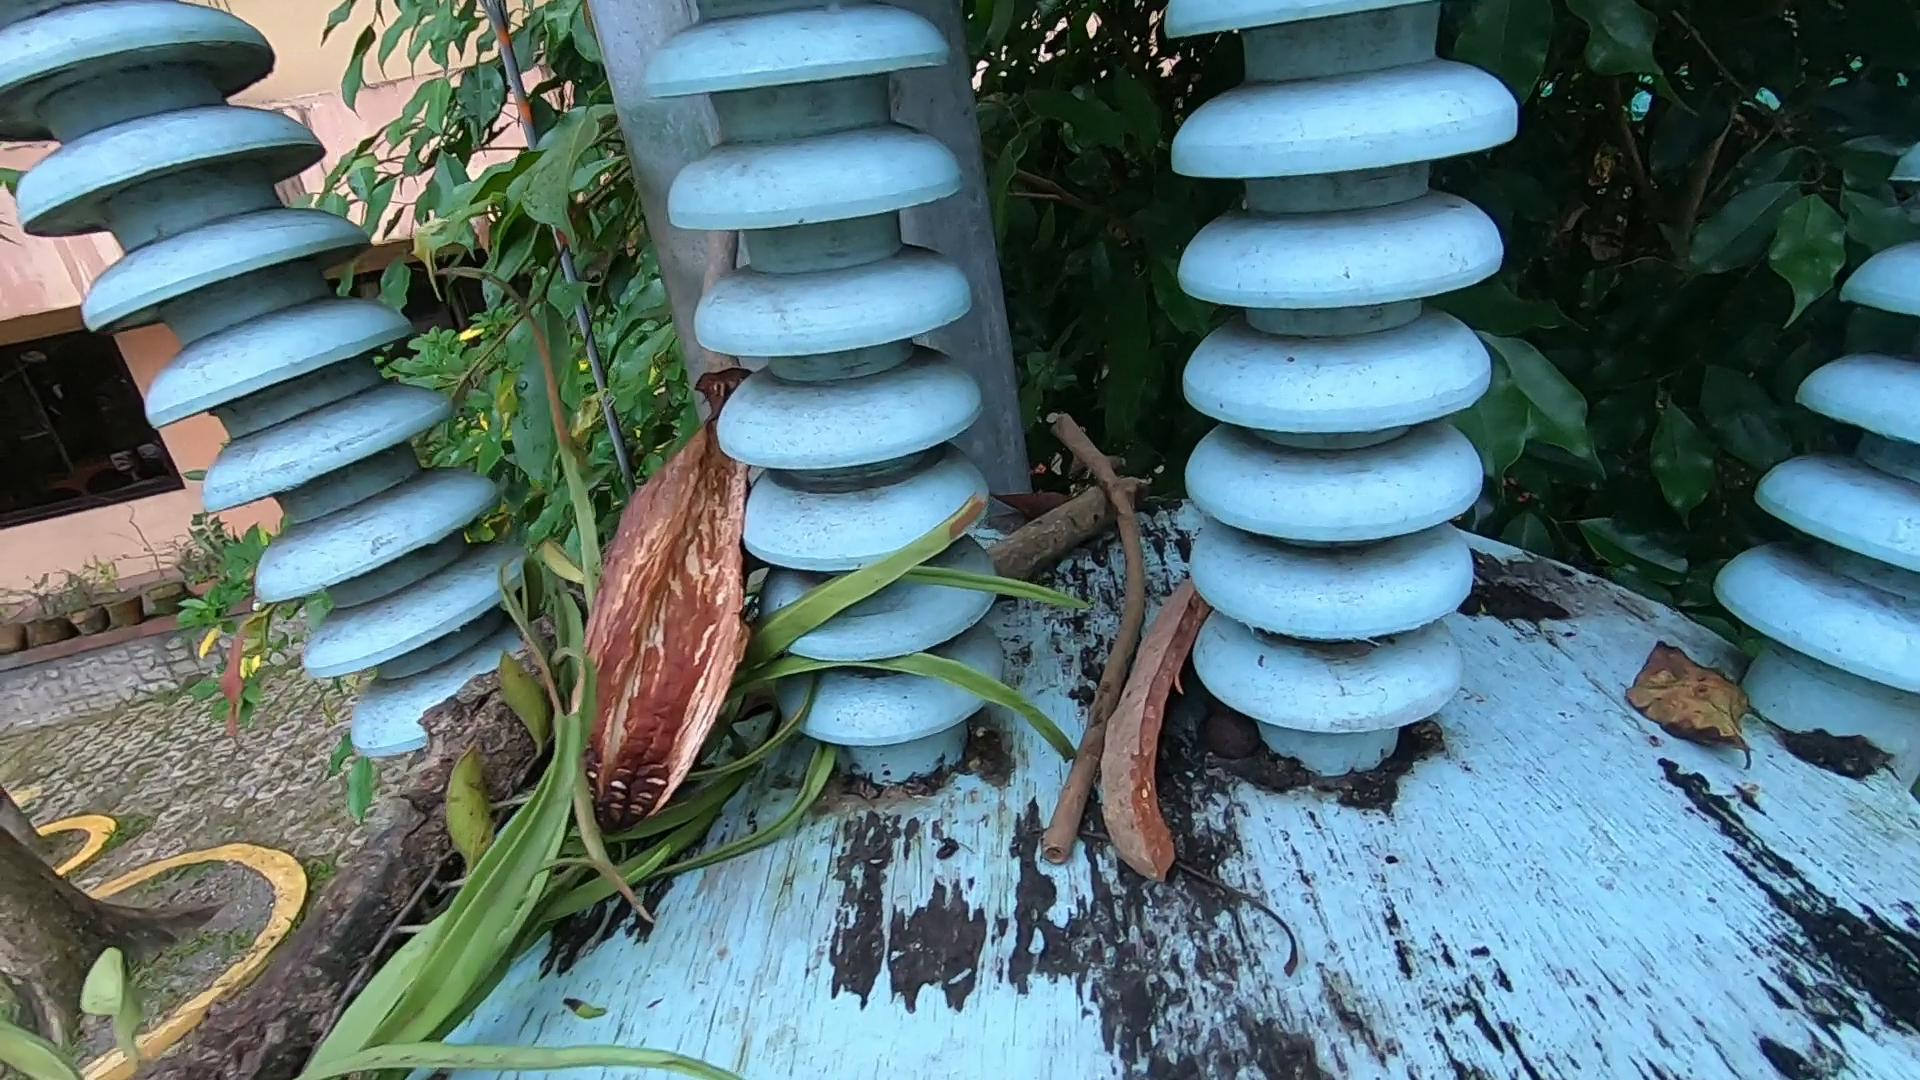branch with leaves: (4, 287, 1072, 1080)
leaf: (1629, 638, 1766, 765)
mahogany fruit: (608, 411, 803, 951), (1083, 531, 1278, 990)
tree branch: (1043, 401, 1154, 862), (978, 462, 1145, 588)
